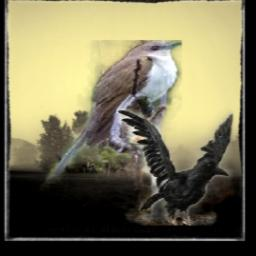Crow: (117, 109, 234, 226)
Cuckoo: (41, 40, 183, 190)
